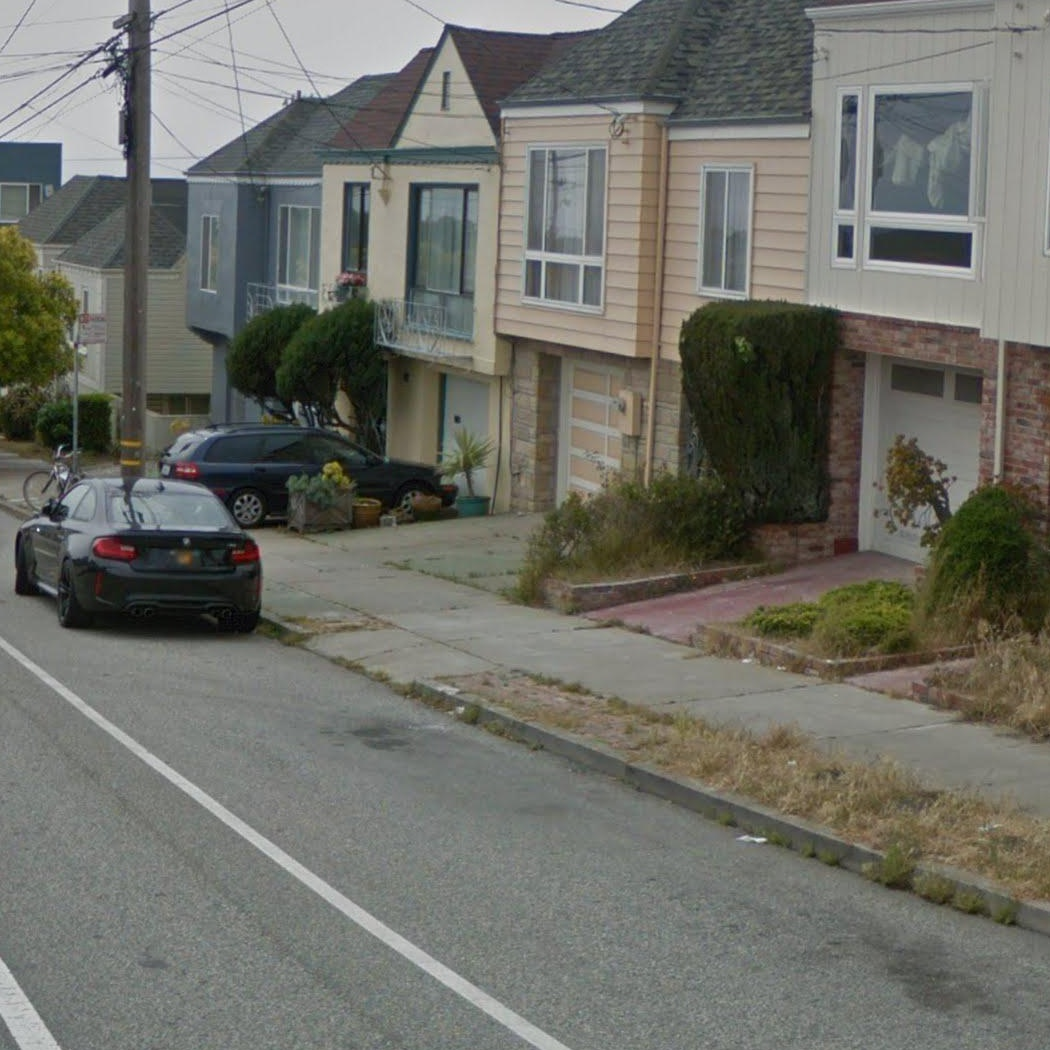No Parking: (77, 312, 108, 345)
